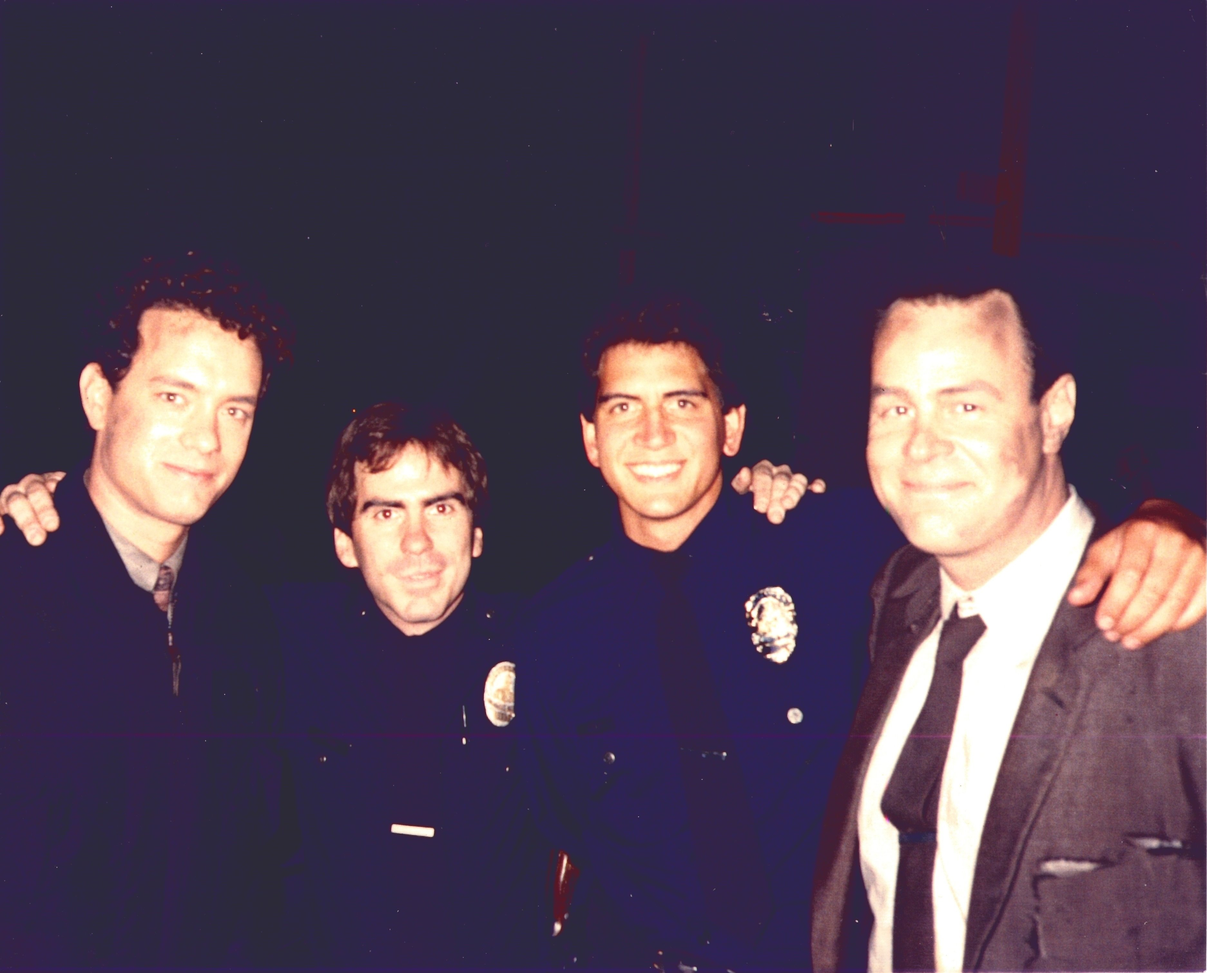28: (335, 416, 489, 650)
31: (95, 290, 280, 551)
37: (573, 312, 739, 545)
42: (843, 268, 1058, 584)
Coat: (791, 531, 1207, 968), (0, 454, 301, 968)
Male: (843, 268, 1058, 584), (95, 290, 280, 551), (573, 312, 739, 545), (335, 416, 489, 650)
Shirt: (502, 480, 927, 973), (238, 558, 602, 973), (852, 480, 1099, 973), (75, 459, 228, 615)
Tie: (609, 539, 795, 973), (869, 569, 994, 973), (357, 613, 486, 973), (142, 556, 196, 722)
